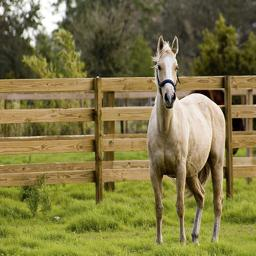horse: (178, 76, 256, 256)
